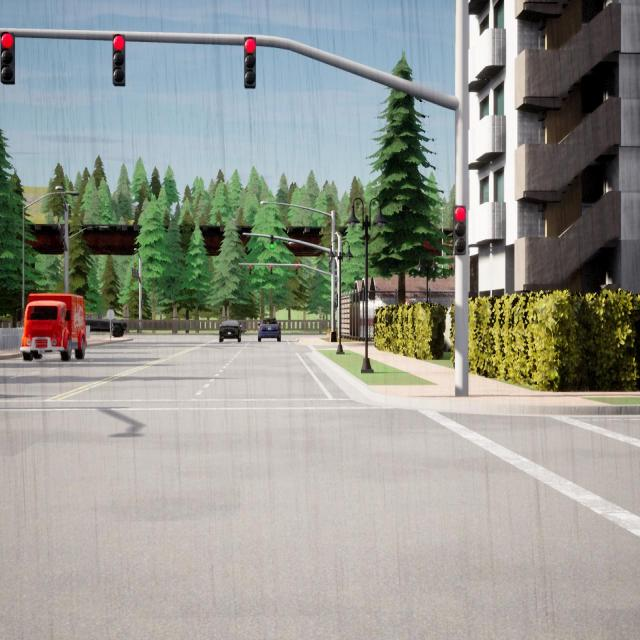Traffic_Signs: (107, 310, 114, 319)
Vehicle: (20, 293, 86, 361), (86, 312, 126, 337), (257, 317, 281, 341), (219, 320, 241, 343)
traffic_light: (111, 34, 127, 86), (2, 28, 16, 84), (243, 38, 256, 86), (454, 208, 467, 255), (60, 227, 65, 241), (270, 234, 274, 249), (249, 264, 251, 274), (270, 265, 272, 274), (296, 266, 298, 274), (134, 269, 136, 277), (141, 300, 143, 308), (132, 268, 133, 276), (137, 270, 138, 278)
